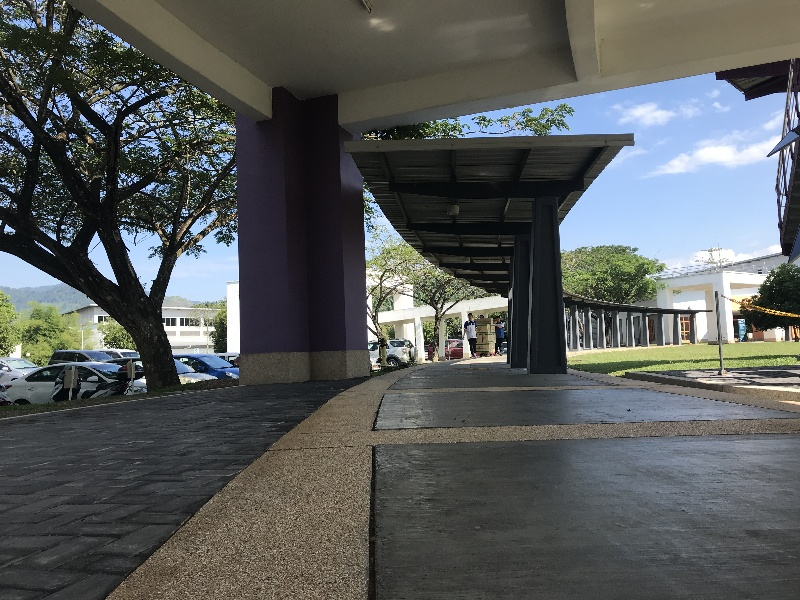Block D corridor: (12, 5, 793, 595)
pillar: (218, 84, 372, 372), (519, 200, 581, 376)
